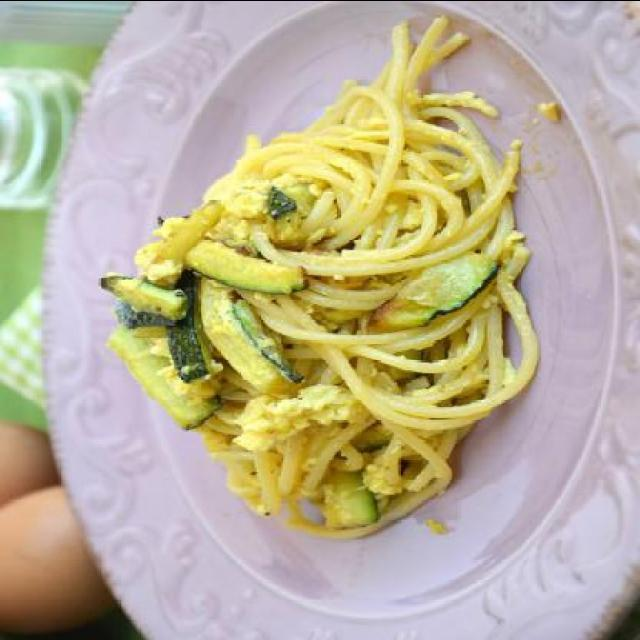Pasta with carbonara sauce: (61, 43, 552, 525)
